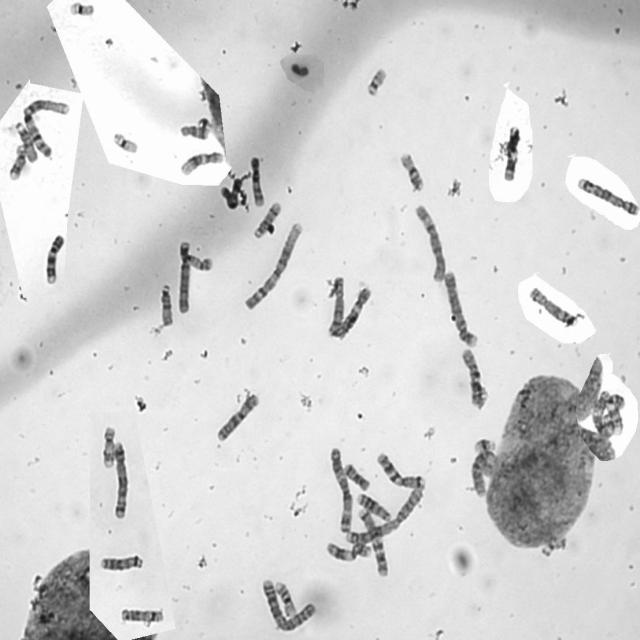A1: (241, 220, 305, 312), (19, 96, 71, 160)
A2: (342, 484, 427, 546), (258, 576, 318, 634)
A3: (327, 444, 354, 534), (590, 390, 616, 439)
B4: (442, 268, 479, 348), (177, 240, 192, 316)
B5: (576, 174, 640, 217), (109, 439, 130, 521)
C10: (458, 345, 488, 411), (248, 153, 265, 209)
C11: (323, 538, 374, 564), (501, 123, 521, 182)
C12: (331, 287, 373, 340), (177, 147, 225, 177)
C6: (413, 201, 447, 283), (467, 450, 497, 500)
C7: (354, 505, 390, 578), (374, 449, 426, 490)
C8: (527, 284, 576, 328), (326, 272, 346, 338)
C9: (42, 230, 67, 286), (604, 392, 626, 438)
D13: (354, 490, 392, 522), (97, 551, 144, 573)
D14: (251, 199, 283, 240), (118, 604, 165, 624)
D15: (14, 120, 39, 163), (157, 281, 175, 327)
E16: (398, 149, 426, 192), (273, 580, 298, 619)
E17: (100, 422, 117, 470), (8, 144, 27, 182)
E18: (341, 461, 371, 492), (177, 121, 210, 141)
F19: (110, 130, 140, 155), (67, 1, 97, 18)
F20: (190, 254, 212, 272), (290, 60, 310, 78)
G21: (473, 436, 497, 456), (196, 117, 214, 133)
G22: (363, 64, 389, 98), (541, 536, 569, 558)
X: (212, 390, 260, 443), (219, 178, 243, 212)
